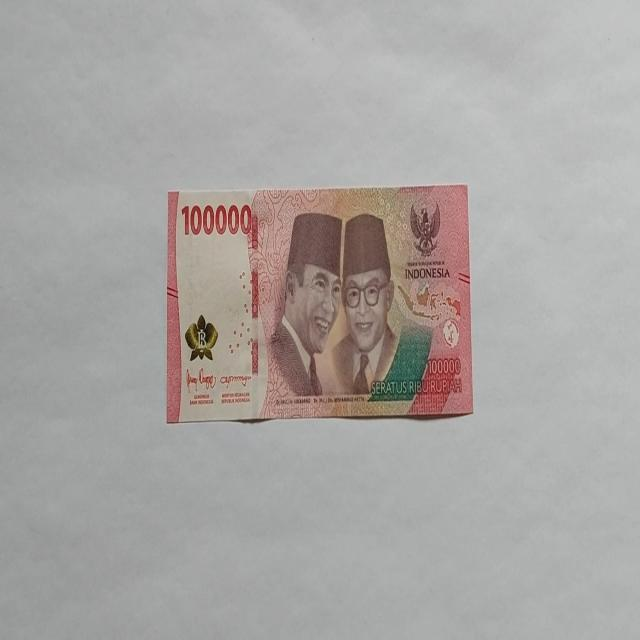seratus ribu rupiah: (165, 184, 473, 423)
